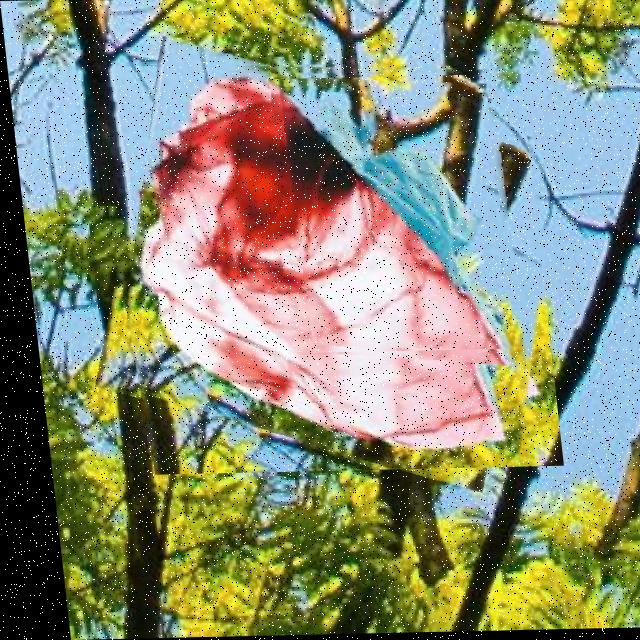plasticcover: (81, 55, 553, 475), (266, 76, 507, 354)
